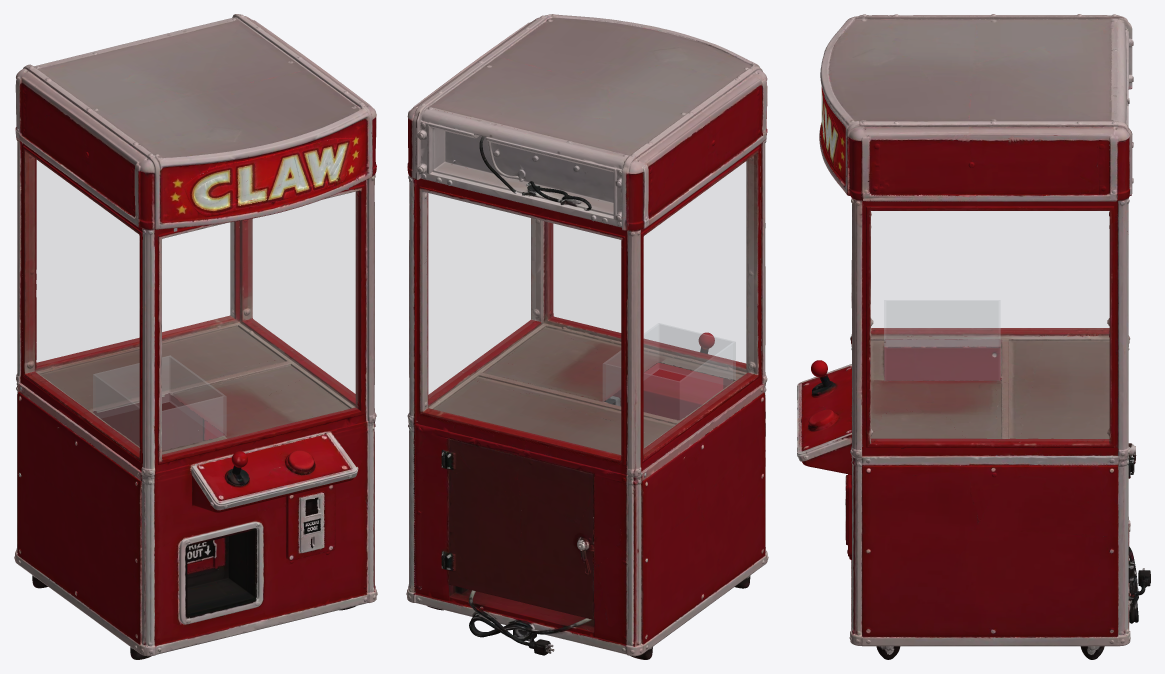
The model's file is cabinet.min.glb.
The picture shows the model from 3 angles, left to right: view 1: azimuth 30°, elevation 25°; view 2: azimuth 150°, elevation 25°; view 3: azimuth 270°, elevation 25°; orthographic projection. The views are drawn at different scales.
Parts seen in each view (by area): view 1: vidrio_frente, tripo_part_2, tripo_part_1, vidrio_izquierda, tripo_part_10, tripo_part_4, tripo_part_8, tripo_part_34, vidrio_buzon, tripo_part_31, tripo_part_18, tripo_part_33 (+26 smaller); view 2: vidrio_atras, tripo_part_1, tripo_part_2, vidrio_izquierda, tripo_part_25, tripo_part_8, vidrio_buzon, tripo_part_4, tripo_part_34, tripo_part_5, tripo_part_18, tripo_part_70 (+30 smaller); view 3: tripo_part_6, vidrio_derecha, tripo_part_2, tripo_part_11, tripo_part_14, vidrio_buzon, tripo_part_34, tripo_part_18, tripo_part_1, tripo_part_31, tripo_part_0, tripo_part_28 (+15 smaller).
Boxes of the visible parts, x1,y1,x2,y2 form: vidrio_frente: [162, 192, 357, 456]; tripo_part_2: [37, 19, 372, 230]; tripo_part_1: [15, 138, 157, 646]; vidrio_izquierda: [29, 155, 138, 451]; tripo_part_10: [155, 421, 368, 644]; tripo_part_4: [21, 143, 367, 472]; tripo_part_8: [15, 68, 160, 230]; tripo_part_34: [39, 325, 282, 398]; vidrio_buzon: [93, 355, 226, 450]; tripo_part_31: [191, 432, 358, 512]; tripo_part_18: [162, 365, 350, 454]; tripo_part_33: [179, 520, 264, 624]; vidrio_atras: [427, 193, 620, 455]; tripo_part_1: [619, 230, 767, 646]; tripo_part_2: [428, 14, 759, 156]; vidrio_izquierda: [644, 156, 753, 453]; tripo_part_25: [449, 447, 603, 619]; tripo_part_8: [628, 66, 767, 232]; vidrio_buzon: [603, 323, 735, 419]; tripo_part_4: [543, 144, 762, 471]; tripo_part_34: [433, 379, 658, 454]; tripo_part_5: [415, 424, 594, 626]; tripo_part_18: [483, 324, 744, 401]; tripo_part_70: [451, 466, 521, 572]; tripo_part_6: [850, 446, 1119, 637]; vidrio_derecha: [871, 211, 1108, 440]; tripo_part_2: [819, 14, 1114, 195]; tripo_part_11: [846, 126, 1114, 200]; tripo_part_14: [851, 198, 1130, 635]; vidrio_buzon: [884, 300, 1000, 380]; tripo_part_34: [1015, 339, 1109, 438]; tripo_part_18: [870, 339, 998, 438]; tripo_part_1: [850, 89, 1130, 520]; tripo_part_31: [797, 364, 851, 474]; tripo_part_0: [849, 520, 1130, 646]; tripo_part_28: [967, 126, 1130, 201].
Bounding box in the file's own units: 0.4792 × 0.9825 × 0.5882.
85 materials, 82 textured.
